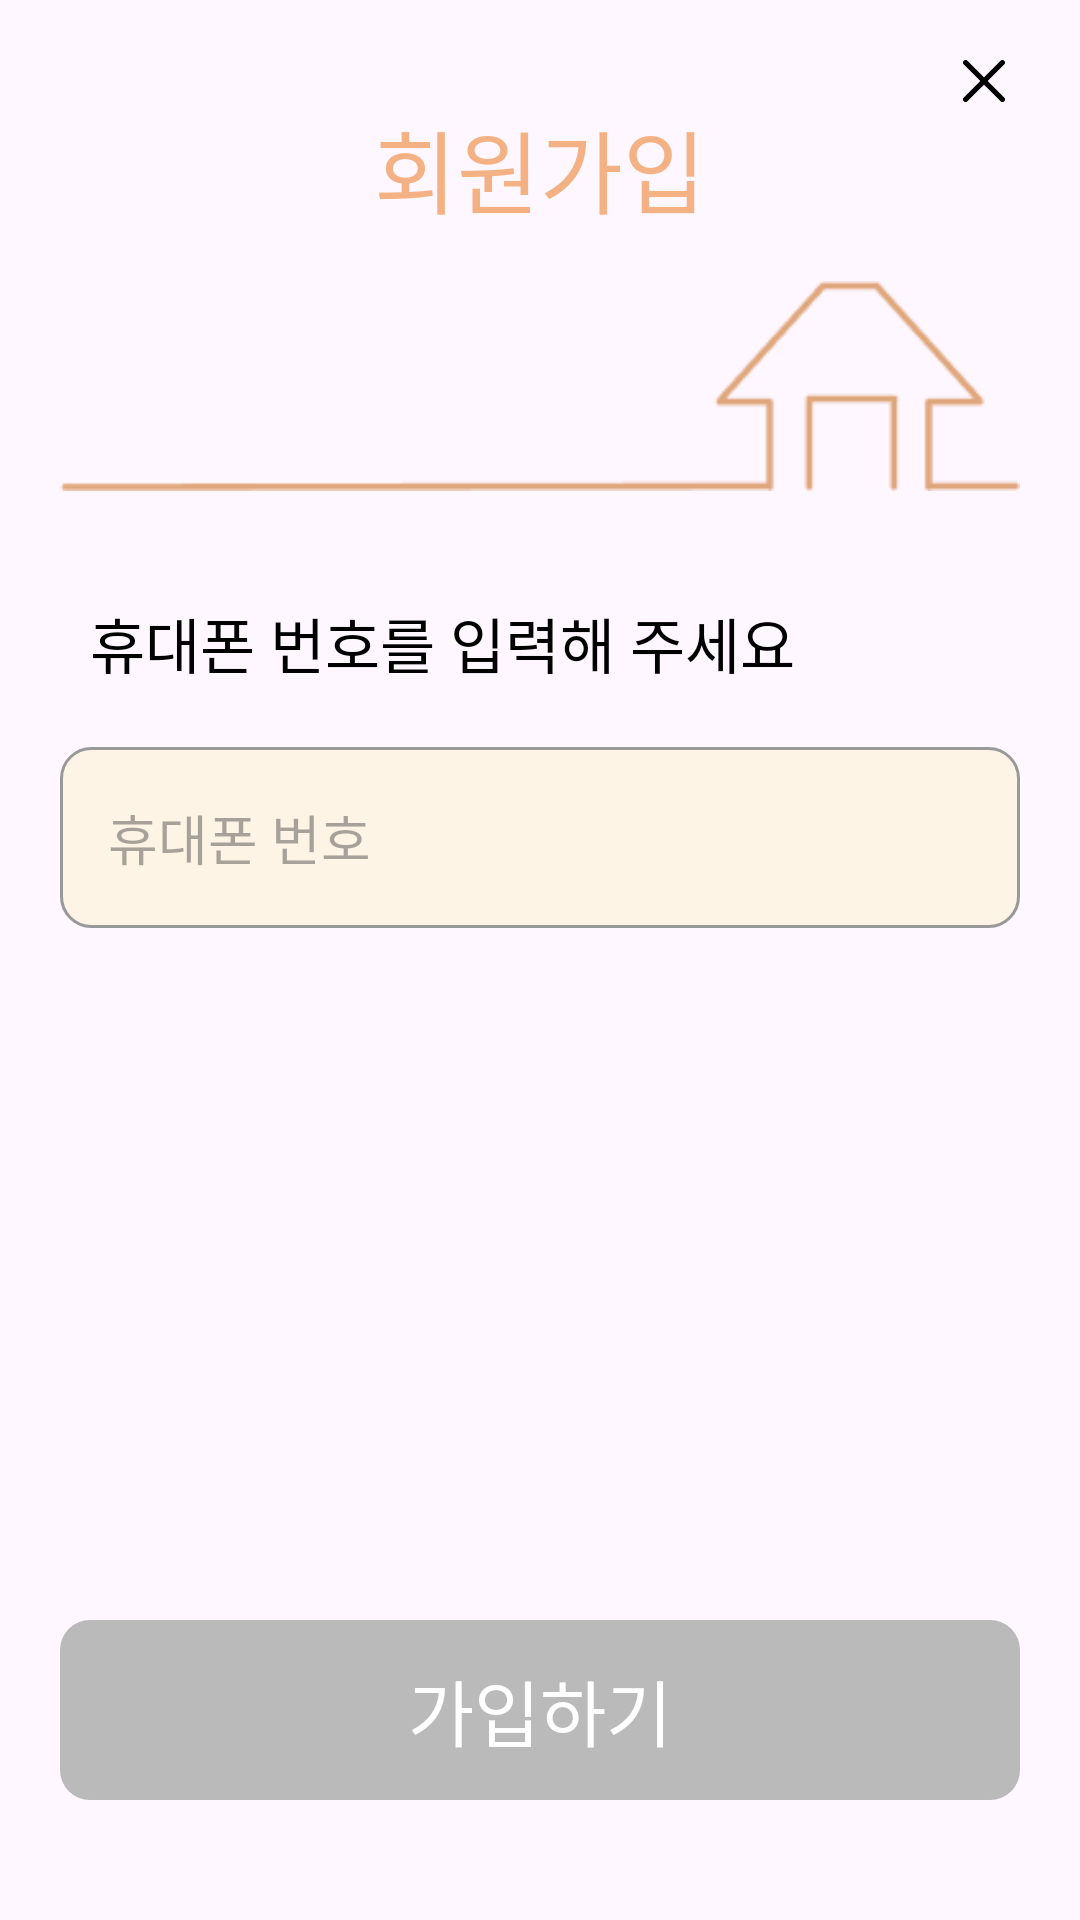

Named icons in this screenshot (1080×1920) and their bounding boxes, (x1, y1, x2, y2):
close: (963, 60, 1005, 102)
